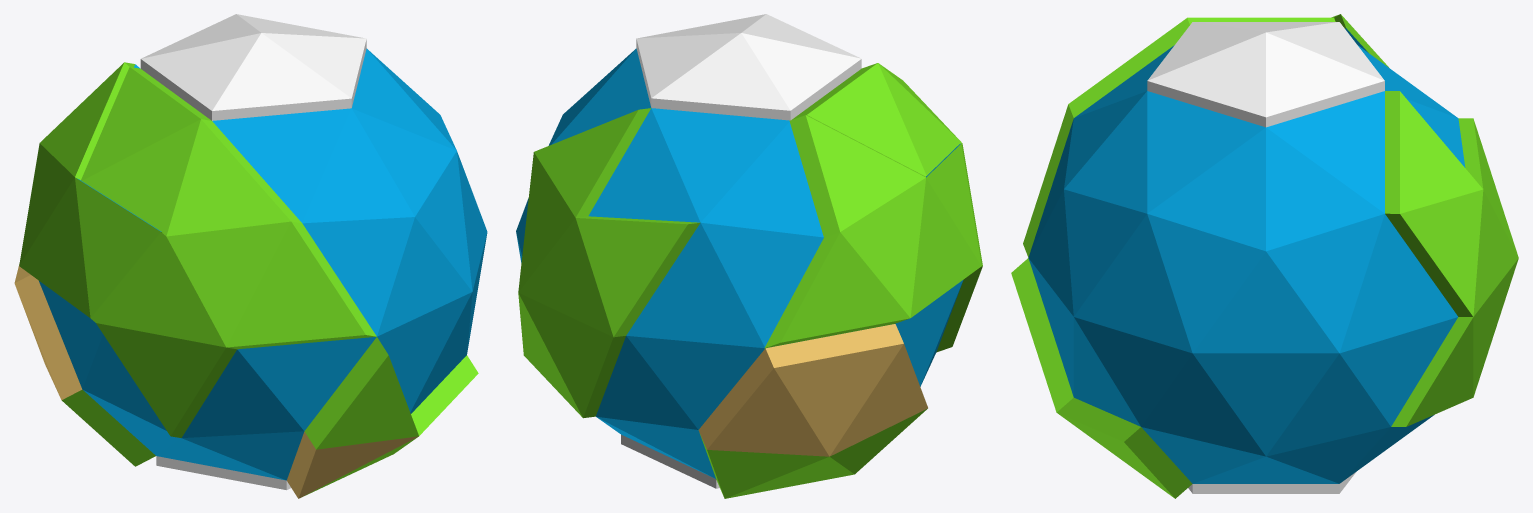
File: Earth1.fbx
3 renders of one model, left to right at view 1: azimuth 30°, elevation 25°; view 2: azimuth 150°, elevation 25°; view 3: azimuth 270°, elevation 25°, orthographic. The views are drawn at different scales.
Parts seen in each view (by area): view 1: Earth; view 2: Earth; view 3: Earth.
Part boxes in pixels (x1,y1,x2,y2): Earth: (14, 14, 487, 498); Earth: (516, 14, 982, 498); Earth: (1011, 14, 1518, 498).
Size of the model in its own units: 198 by 209 by 214.
